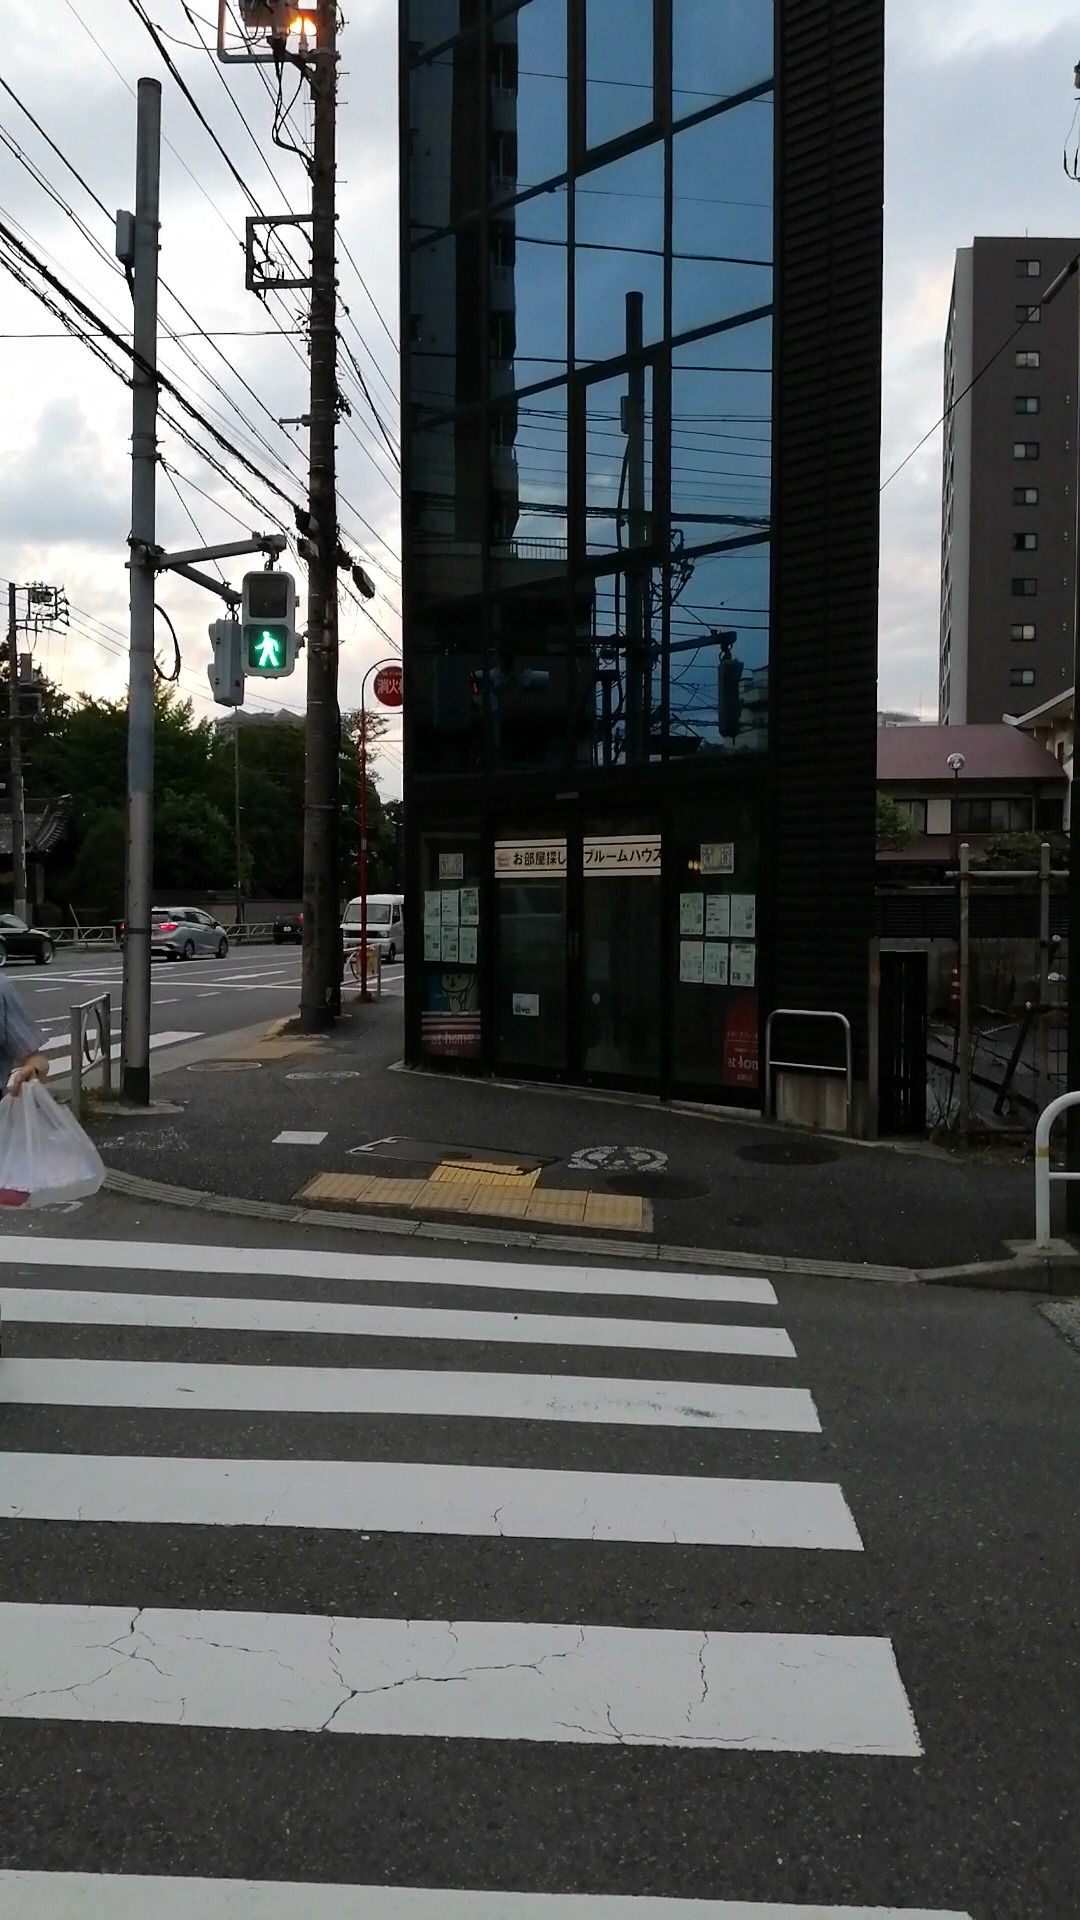green: (240, 571, 295, 679)
